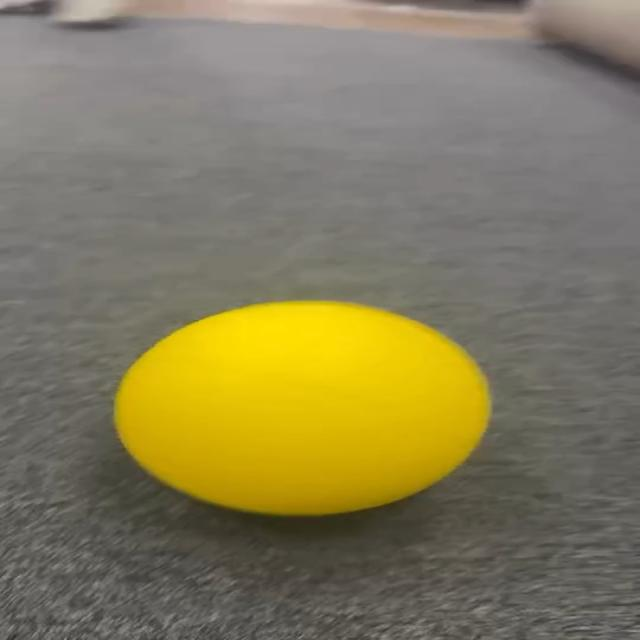Fuels: (115, 301, 489, 514)
